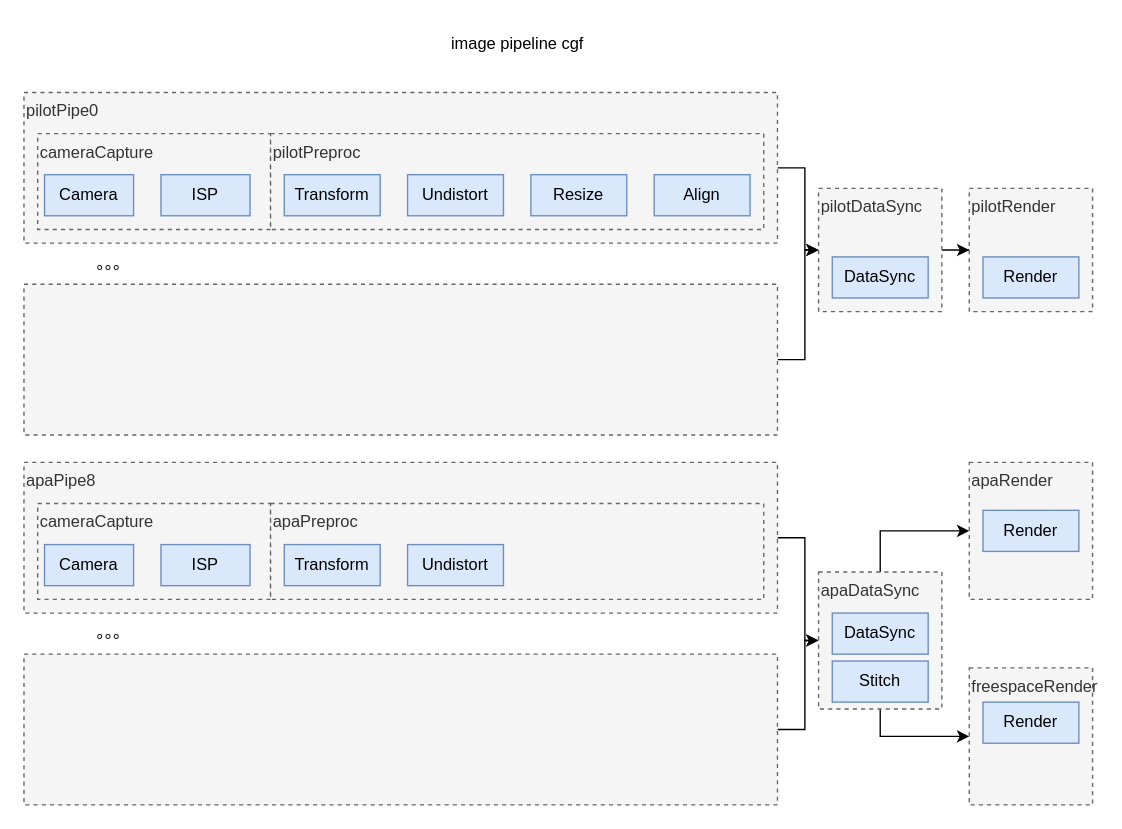
Image size: 1122x829. Some labels were removed from this diagram. Each missing label, with the centre of its shape:
"apaPipe11" belongs at point 400,729.
"pilotPipe7" belongs at point 400,359.
